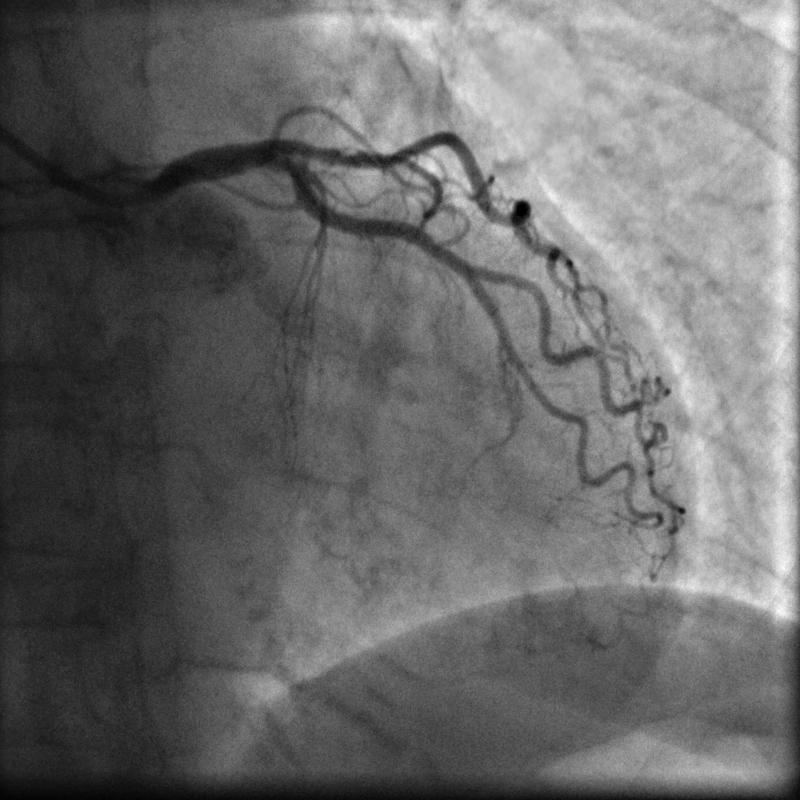Stenosis: (336, 146, 362, 166)
